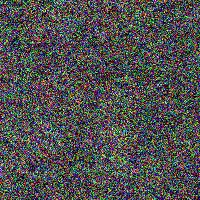rolled-in_scale: (21, 45, 88, 170), (2, 136, 60, 198)
